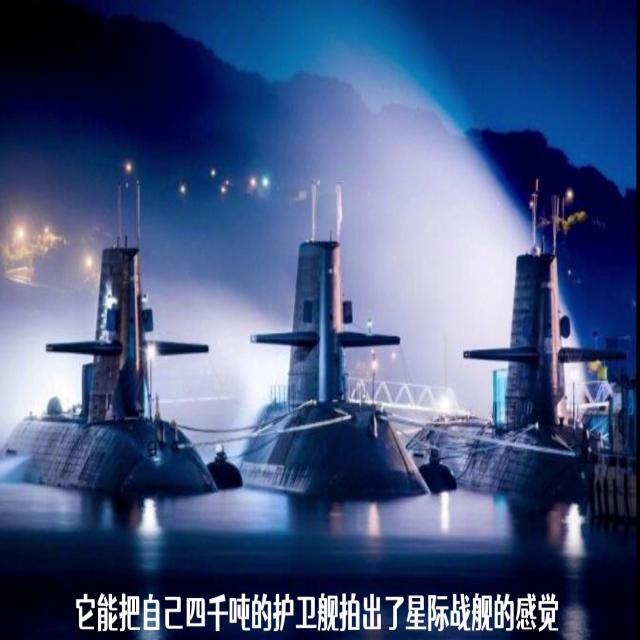navalvessels: (437, 242, 624, 530), (232, 236, 404, 520), (30, 236, 194, 522)
